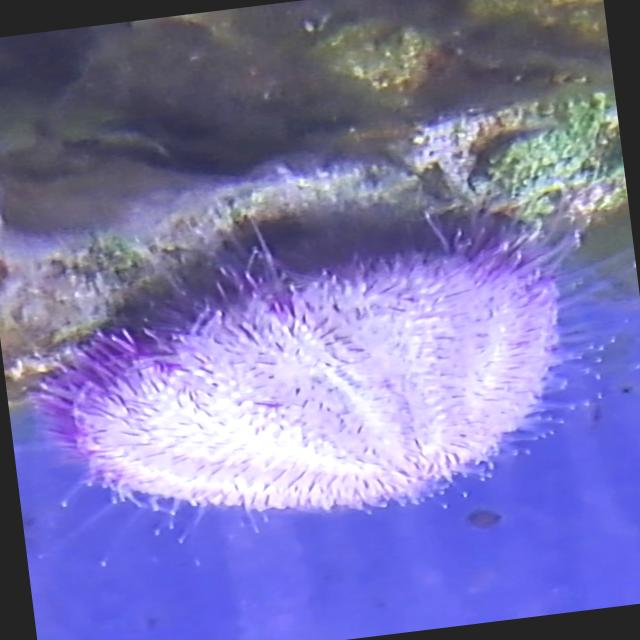Deniz Kestanesi: (1, 188, 588, 575)
